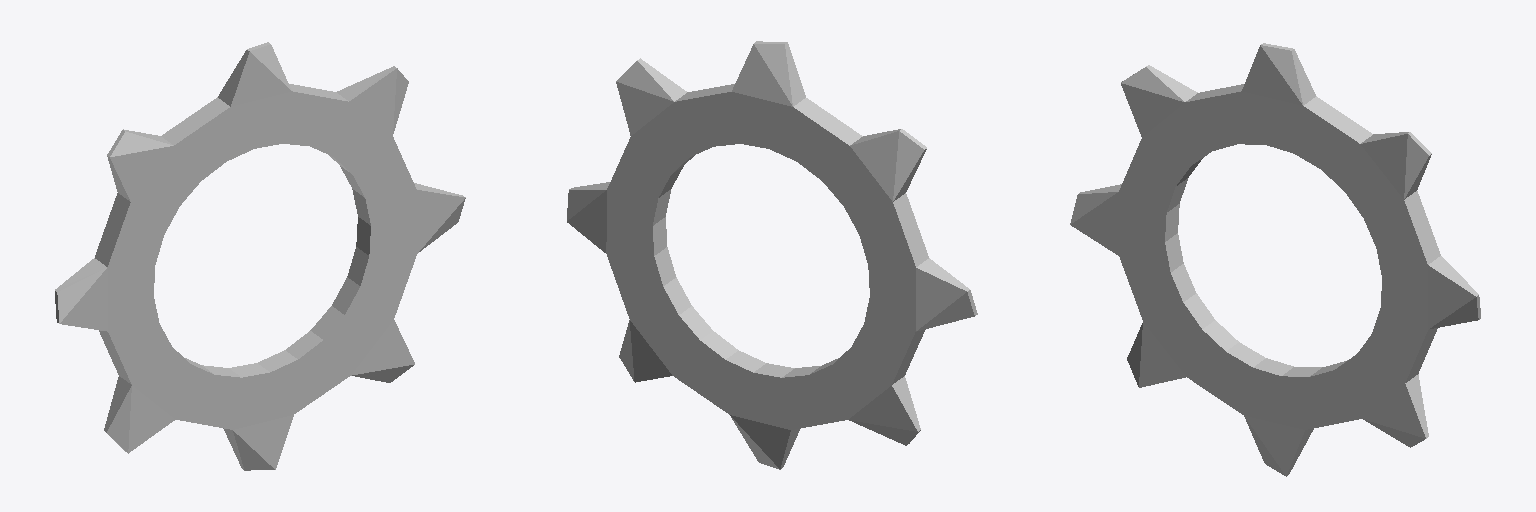
The model's file is Roda de aço.obj.
3 renders of one model, left to right at view 1: azimuth 30°, elevation 25°; view 2: azimuth 150°, elevation 25°; view 3: azimuth 330°, elevation 25°, orthographic.
Parts seen in each view (by area): view 1: Mesh1 External_Star_Washer_1_4_1 Model; view 2: Mesh1 External_Star_Washer_1_4_1 Model; view 3: Mesh1 External_Star_Washer_1_4_1 Model.
Part boxes in pixels (x1,y1,x2,y2): Mesh1 External_Star_Washer_1_4_1 Model: (55,42,465,470); Mesh1 External_Star_Washer_1_4_1 Model: (567,41,977,469); Mesh1 External_Star_Washer_1_4_1 Model: (1070,43,1480,476).
Size of the model in its own units: 1.89 by 1.89 by 0.1078.